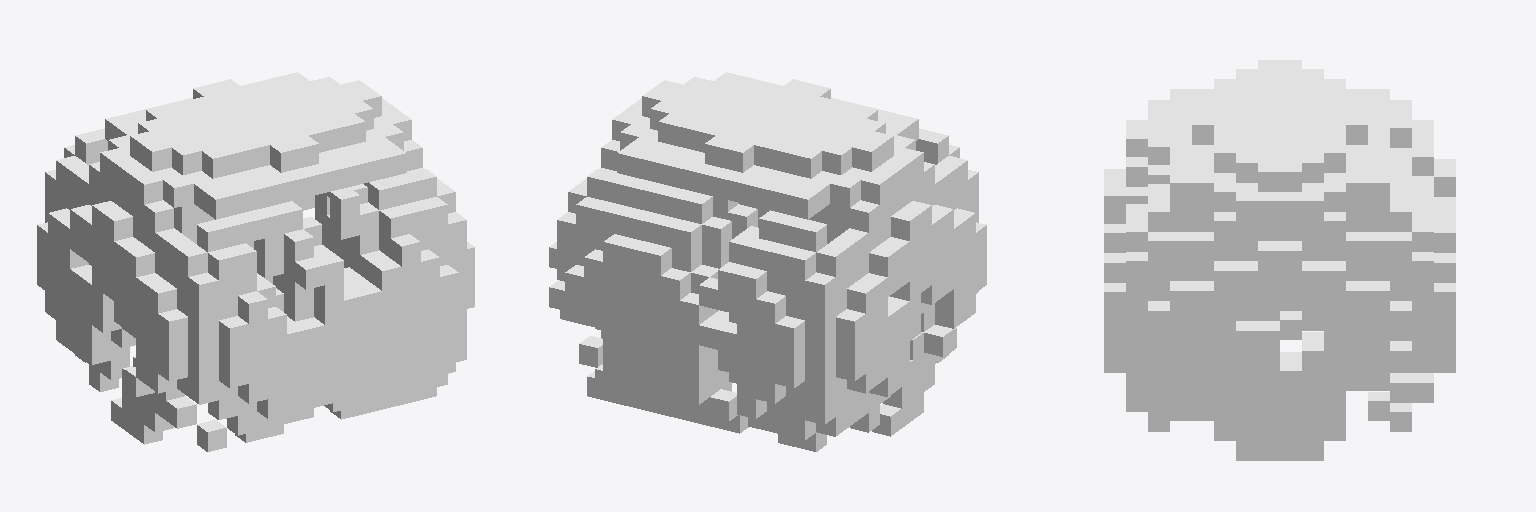
The model's file is red-leaf-4.obj.
The picture shows the model from 3 angles: view 1: azimuth 30°, elevation 25°; view 2: azimuth 150°, elevation 25°; view 3: azimuth 270°, elevation 25°; orthographic projection.
Parts seen in each view (by area): view 1: object 1; view 2: object 1; view 3: object 1.
Boxes of the visible parts, x1,y1,x2,y2 form: object 1: [37, 72, 474, 451]; object 1: [549, 72, 986, 451]; object 1: [1104, 60, 1455, 460].
Size of the model in its own units: 1.6 by 1.4 by 1.6.